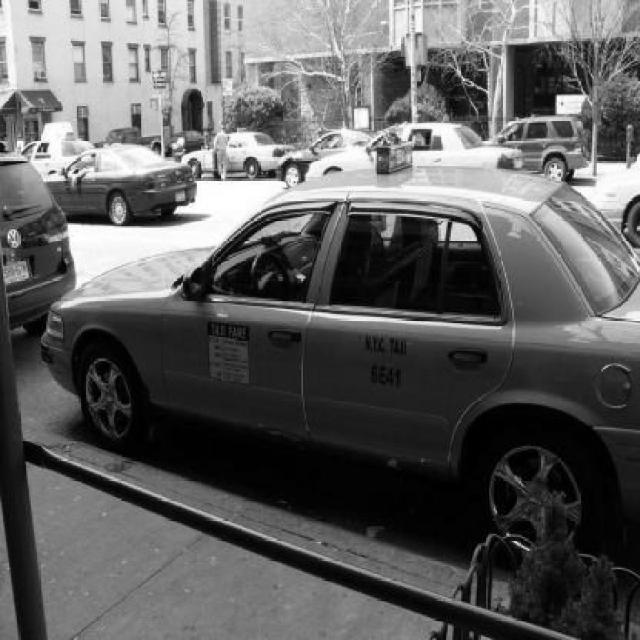car: (37, 154, 640, 506), (303, 121, 517, 196), (0, 152, 83, 337), (45, 132, 202, 226), (174, 134, 301, 171), (497, 108, 589, 155)
